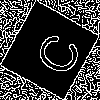C: (25, 25, 84, 80)
